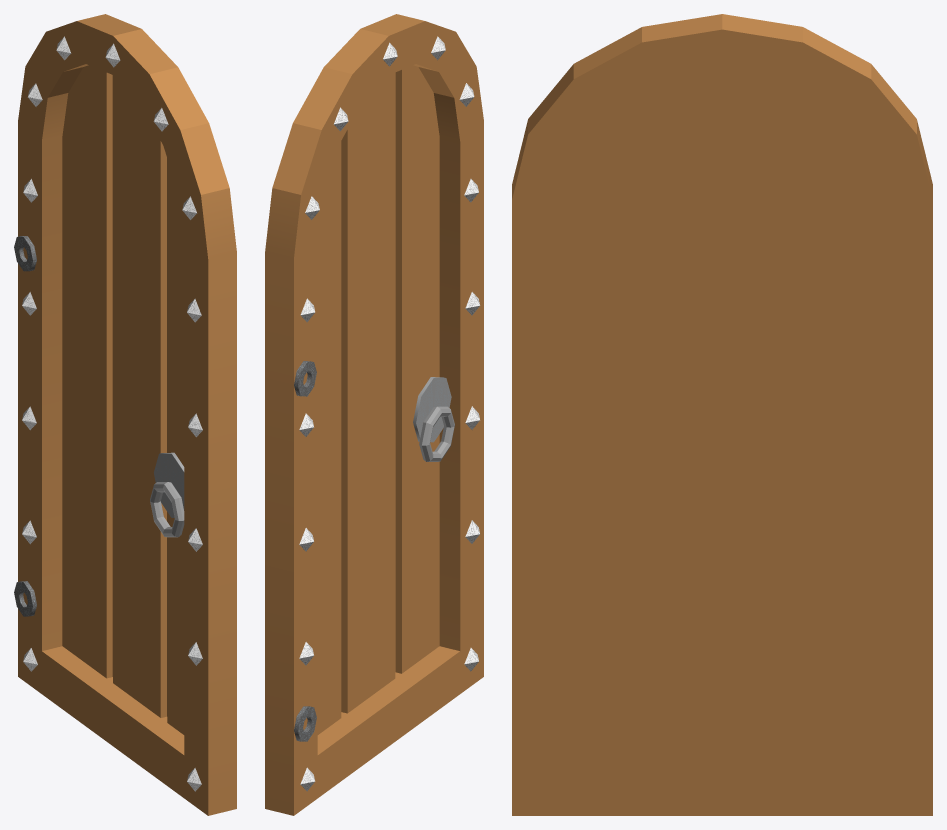
The model's file is Door2.fbx.
3 renders of one model, left to right at view 1: azimuth 30°, elevation 25°; view 2: azimuth 150°, elevation 25°; view 3: azimuth 270°, elevation 25°, orthographic. The views are drawn at different scales.
Parts seen in each view (by area): view 1: Group2, Handle1, handleMain1, Petlja2, Petlja1; view 2: Group2, handleMain1, Handle1, Petlja1, Petlja2; view 3: Group2.
Boxes of the visible parts, left/top/right/bottom form: Group2: left=18, top=14, right=236, bottom=815; Handle1: left=150, top=482, right=184, bottom=537; handleMain1: left=154, top=452, right=184, bottom=517; Petlja2: left=14, top=581, right=36, bottom=616; Petlja1: left=14, top=236, right=36, bottom=271; Group2: left=265, top=14, right=483, bottom=815; handleMain1: left=413, top=377, right=451, bottom=442; Handle1: left=419, top=406, right=454, bottom=461; Petlja1: left=294, top=361, right=316, bottom=396; Petlja2: left=294, top=706, right=316, bottom=741; Group2: left=512, top=14, right=932, bottom=815.
Bounding box in the file's own units: 90 × 1650 × 800.
